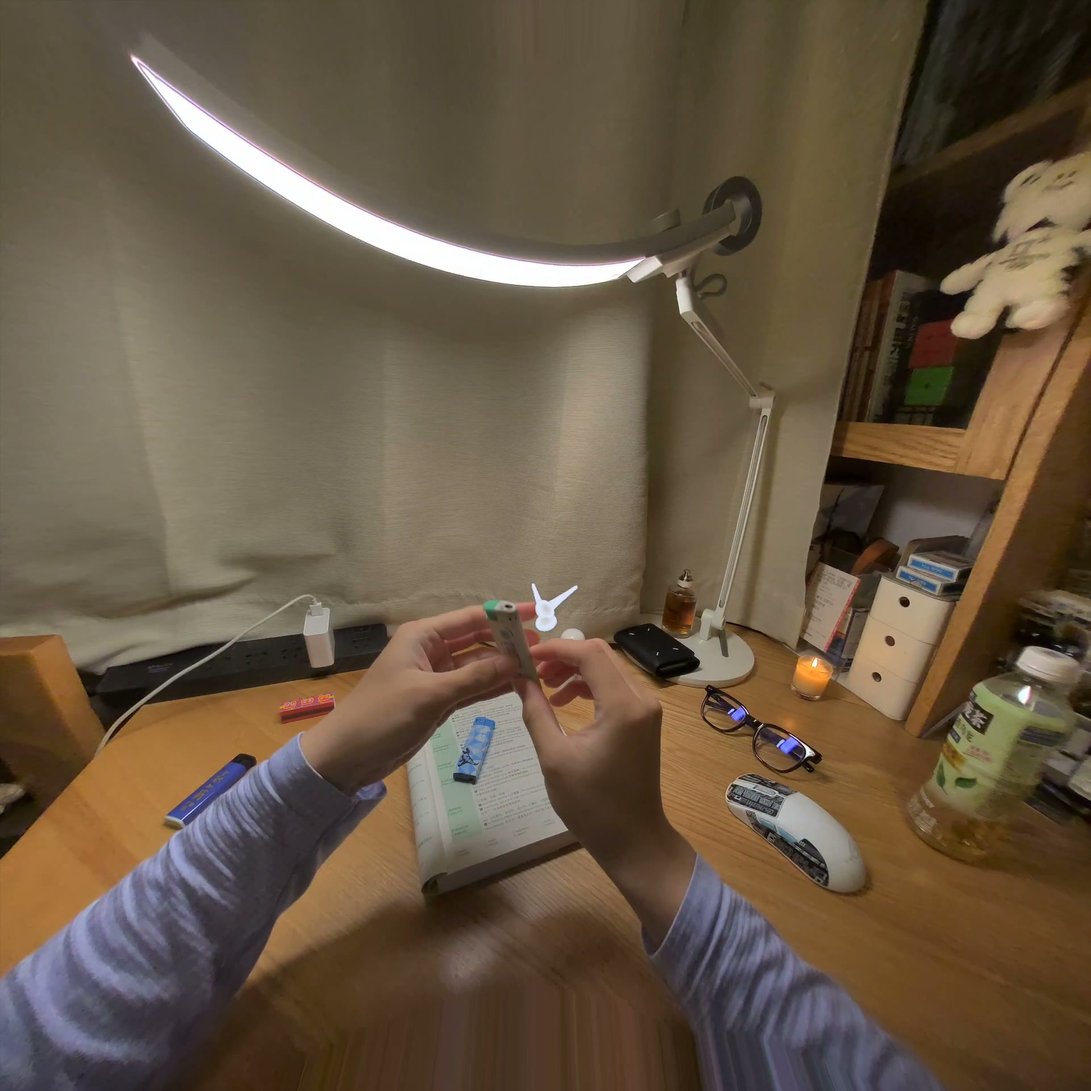lighter: (484, 601, 536, 679)
